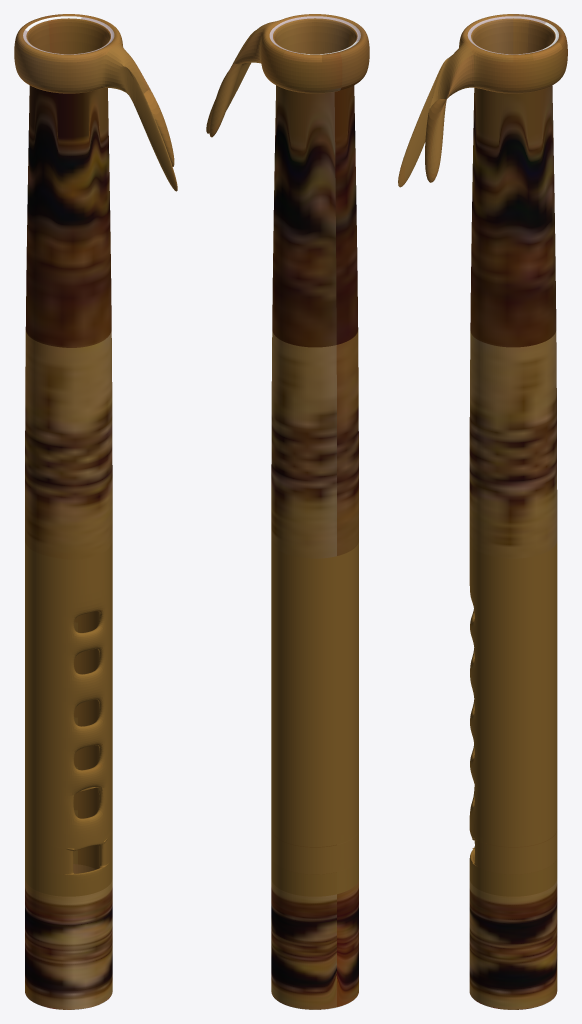
File: suling-bambu.glb
The picture shows the model from 3 angles, left to right: view 1: azimuth 30°, elevation 25°; view 2: azimuth 210°, elevation 25°; view 3: azimuth 270°, elevation 25°; orthographic projection.
Visible parts, largest first — view 1: Cylinder; view 2: Cylinder; view 3: Cylinder.
Boxes of the visible parts, x1,y1,x2,y2 form: Cylinder: [14, 14, 177, 1009]; Cylinder: [206, 14, 369, 1009]; Cylinder: [398, 14, 567, 1009].
Bounding box in the file's own units: 1.06 × 8.72 × 1.4.
Materials: 1 (1 with a texture image).
